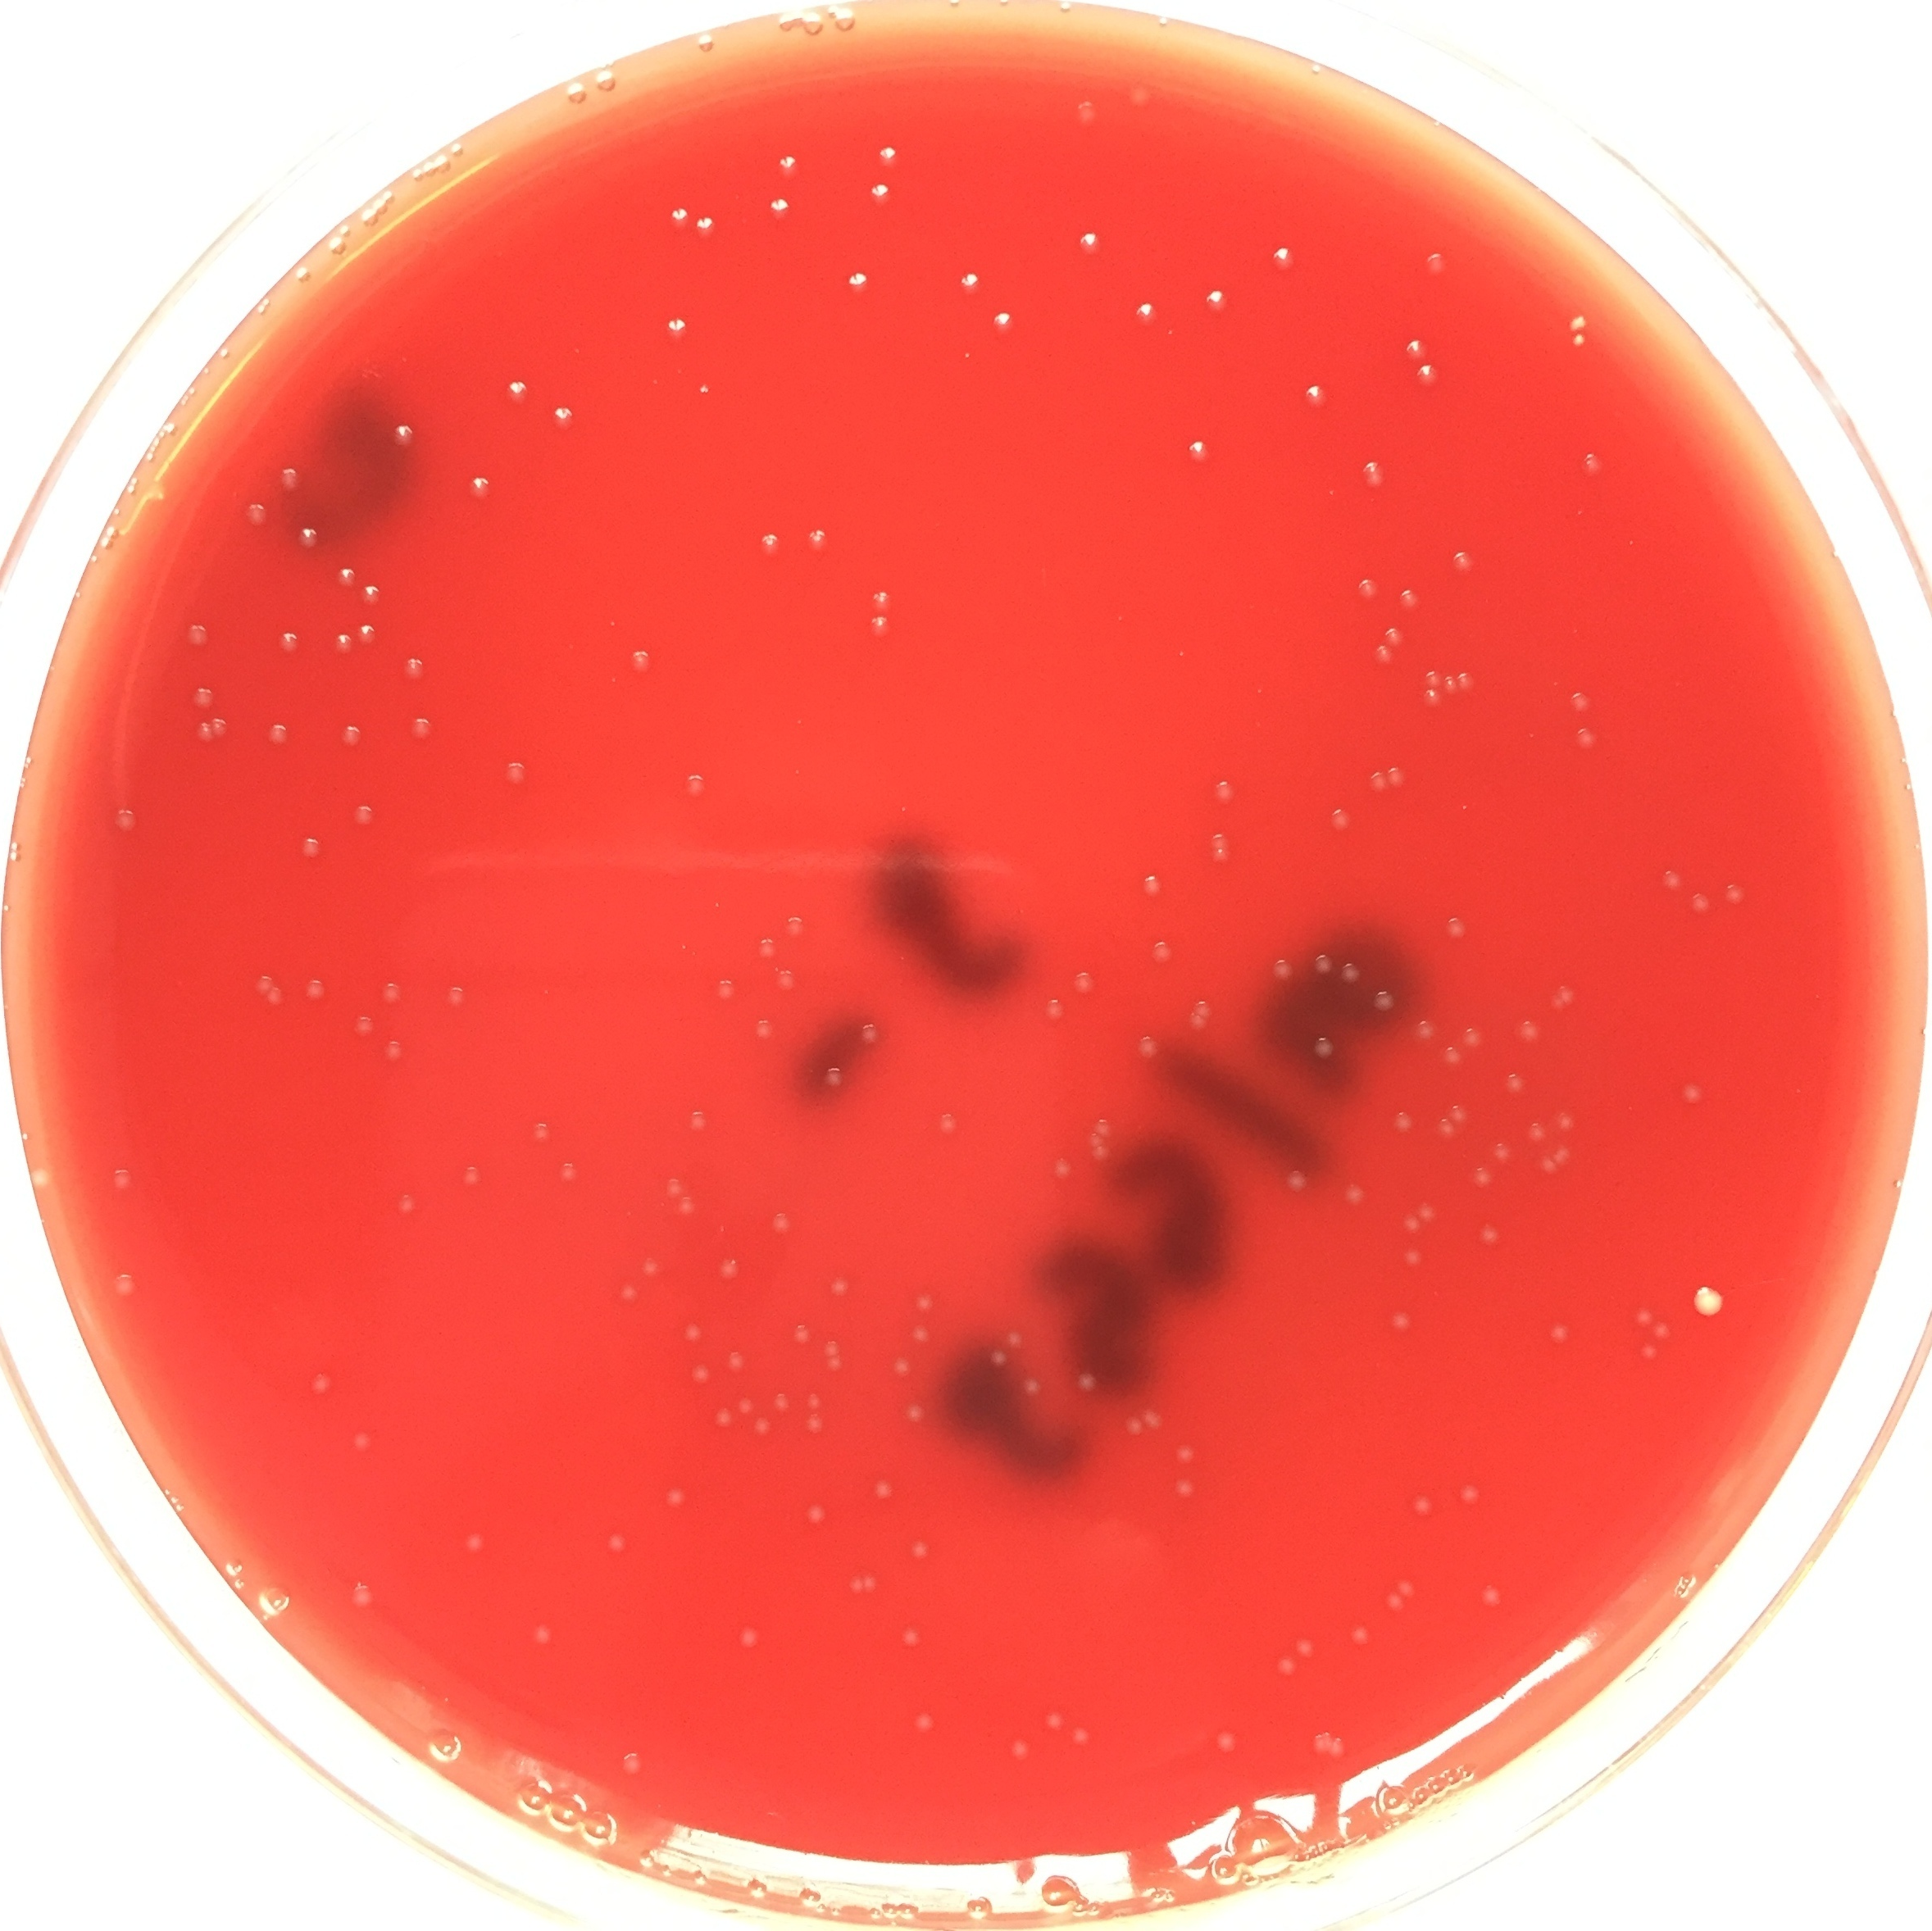sp10: (901, 1514, 952, 1568), (446, 1142, 490, 1201), (1313, 796, 1368, 842), (1534, 1312, 1578, 1369), (904, 1683, 947, 1742), (384, 1185, 428, 1236), (1293, 1027, 1345, 1068), (439, 967, 479, 1019), (303, 1363, 347, 1409), (1375, 1309, 1424, 1349), (340, 1420, 380, 1468), (21, 1149, 62, 1197), (1141, 932, 1192, 969), (1468, 1213, 1509, 1259), (1129, 1019, 1162, 1073), (1332, 1178, 1375, 1220), (860, 1469, 901, 1514), (1194, 773, 1244, 808), (103, 1259, 143, 1301), (1132, 861, 1173, 904), (1670, 1075, 1711, 1118), (1263, 232, 1304, 274), (796, 1491, 830, 1542), (676, 1103, 720, 1142), (598, 1526, 637, 1570), (1444, 545, 1491, 580), (1042, 987, 1081, 1027), (724, 1616, 761, 1659), (1433, 907, 1476, 944), (895, 1616, 927, 1664), (294, 969, 333, 1008), (1166, 1475, 1205, 1514), (686, 370, 727, 407), (778, 902, 814, 944), (1392, 1247, 1438, 1278), (106, 1156, 145, 1194), (1359, 458, 1396, 497), (927, 1103, 962, 1144), (524, 1107, 557, 1149), (1274, 1167, 1318, 1199), (1070, 223, 1108, 260), (338, 1581, 377, 1616), (704, 964, 743, 999), (748, 1008, 782, 1049), (237, 499, 271, 539), (899, 1401, 932, 1441), (821, 1054, 851, 1098), (110, 799, 140, 843), (455, 1524, 490, 1561), (550, 1156, 589, 1190), (745, 928, 778, 967), (1564, 721, 1603, 755), (543, 401, 582, 435), (1201, 828, 1237, 863), (660, 313, 695, 348), (497, 759, 534, 792), (373, 976, 412, 1008), (1067, 964, 1102, 997), (1415, 246, 1451, 279), (1125, 78, 1159, 113), (681, 771, 715, 805), (1069, 92, 1102, 126), (655, 1478, 690, 1510), (623, 644, 658, 675), (1394, 582, 1426, 617), (1718, 879, 1755, 909), (614, 1745, 648, 1777), (179, 619, 214, 649), (1348, 571, 1384, 601), (824, 1270, 860, 1300), (1001, 1731, 1031, 1767), (768, 967, 803, 997), (1044, 1149, 1072, 1187), (1651, 863, 1688, 891), (856, 1013, 883, 1052), (759, 195, 798, 221), (184, 677, 216, 709), (1631, 1340, 1663, 1372), (529, 1622, 559, 1655), (380, 1036, 410, 1070), (1474, 1577, 1504, 1611), (384, 419, 418, 449), (1559, 684, 1594, 713), (1368, 983, 1396, 1019), (354, 610, 380, 647), (1502, 1070, 1532, 1102), (764, 1210, 796, 1240), (1407, 1491, 1437, 1523), (1454, 1477, 1486, 1507), (499, 375, 529, 407), (260, 720, 294, 748), (276, 624, 303, 660), (294, 523, 320, 559), (1384, 1103, 1414, 1133), (888, 1356, 918, 1386), (294, 835, 326, 863), (402, 651, 430, 683), (1267, 955, 1295, 987), (904, 1321, 936, 1349), (350, 1008, 379, 1040), (334, 723, 368, 750), (679, 1317, 706, 1351), (1578, 444, 1605, 477), (775, 149, 801, 182), (1345, 1616, 1366, 1657), (349, 799, 377, 829), (409, 713, 435, 744), (722, 1344, 748, 1376), (1688, 889, 1714, 921), (1129, 299, 1161, 325), (1387, 755, 1408, 794), (1200, 288, 1235, 311), (865, 615, 893, 644), (720, 1257, 748, 1286), (803, 523, 833, 550), (784, 1319, 814, 1346), (1169, 1443, 1200, 1469), (1182, 1015, 1212, 1042), (1384, 621, 1410, 651), (356, 582, 387, 607), (755, 525, 780, 557), (1362, 766, 1387, 798), (1410, 1010, 1435, 1042), (1269, 1652, 1293, 1683), (274, 465, 301, 493), (635, 1254, 663, 1280), (801, 1416, 830, 1443), (1468, 1167, 1495, 1195), (1552, 1107, 1578, 1135), (1629, 1307, 1656, 1335), (1185, 435, 1212, 463), (329, 630, 354, 660), (1067, 1724, 1097, 1749), (863, 182, 893, 207), (989, 306, 1014, 336), (952, 269, 982, 294), (1309, 946, 1332, 978), (904, 1291, 936, 1314), (1518, 1013, 1541, 1045), (1339, 955, 1366, 981), (249, 967, 274, 996), (1440, 1045, 1465, 1073), (1003, 1324, 1026, 1355), (709, 1401, 732, 1431), (1380, 1590, 1403, 1620), (839, 271, 869, 294), (694, 210, 715, 242), (985, 1349, 1010, 1376), (732, 1390, 757, 1416), (819, 1333, 846, 1358), (1120, 1415, 1145, 1441), (1486, 1141, 1513, 1165), (1302, 380, 1329, 405), (674, 1194, 702, 1217), (616, 1280, 639, 1309), (667, 203, 690, 232), (874, 143, 902, 166), (1040, 1705, 1062, 1735), (193, 713, 211, 748), (1187, 992, 1223, 1010), (1072, 1374, 1099, 1397), (1021, 1378, 1044, 1404), (770, 1386, 793, 1413), (1557, 976, 1580, 1003), (863, 1572, 886, 1599), (1295, 1634, 1322, 1657), (1403, 338, 1430, 361), (1417, 688, 1440, 714), (469, 472, 488, 502), (1564, 311, 1594, 331), (748, 1416, 771, 1441), (800, 1390, 824, 1413), (1447, 1100, 1470, 1125), (1143, 1402, 1164, 1429), (1522, 1116, 1543, 1142), (1329, 1729, 1346, 1761), (1371, 644, 1392, 670), (336, 562, 356, 591), (867, 589, 895, 608), (1552, 1148, 1580, 1167), (660, 1174, 683, 1197), (1415, 1201, 1438, 1224), (1460, 1020, 1481, 1045), (1414, 363, 1435, 387), (1541, 992, 1568, 1011), (1651, 1323, 1677, 1342), (267, 981, 283, 1013), (1442, 674, 1458, 706), (1215, 1729, 1233, 1758), (1396, 1215, 1417, 1238), (211, 714, 235, 734), (692, 1358, 711, 1383), (842, 1572, 862, 1597), (817, 1358, 847, 1374), (1309, 1731, 1327, 1758), (1396, 1579, 1419, 1599), (1095, 1112, 1118, 1132), (1437, 1119, 1454, 1144), (1086, 1148, 1111, 1165), (1079, 1132, 1106, 1148), (1458, 665, 1474, 691), (1424, 667, 1442, 690), (1569, 332, 1589, 350), (1541, 1160, 1555, 1183)
